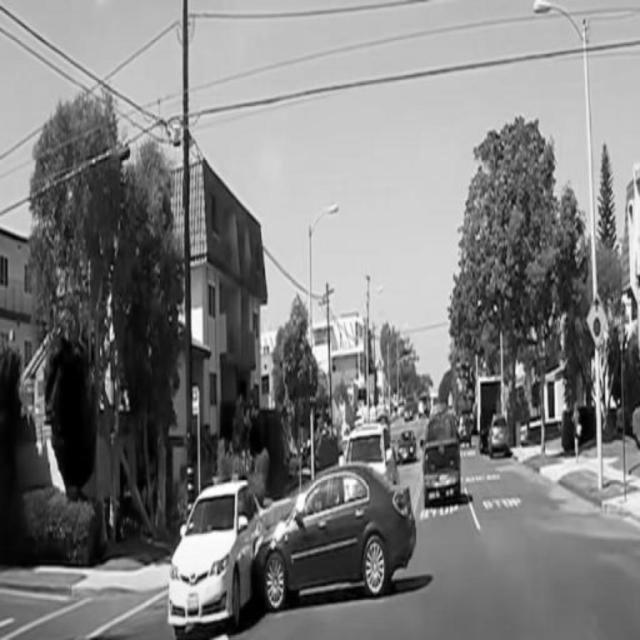accident: (175, 464, 412, 636)
vehicle: (421, 427, 468, 509), (485, 410, 519, 461)
